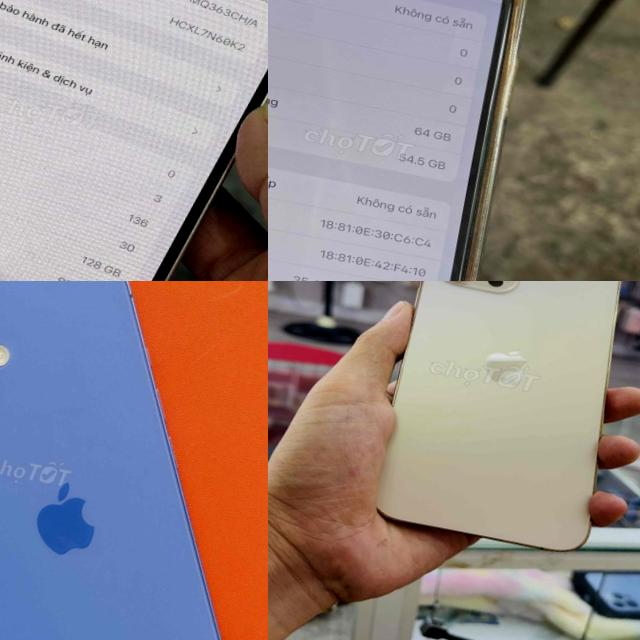gen_12_13: (363, 281, 640, 570)
gen_14: (0, 0, 268, 281)
gen_16: (0, 281, 268, 640)
gen_x_xs: (268, 0, 570, 281)
